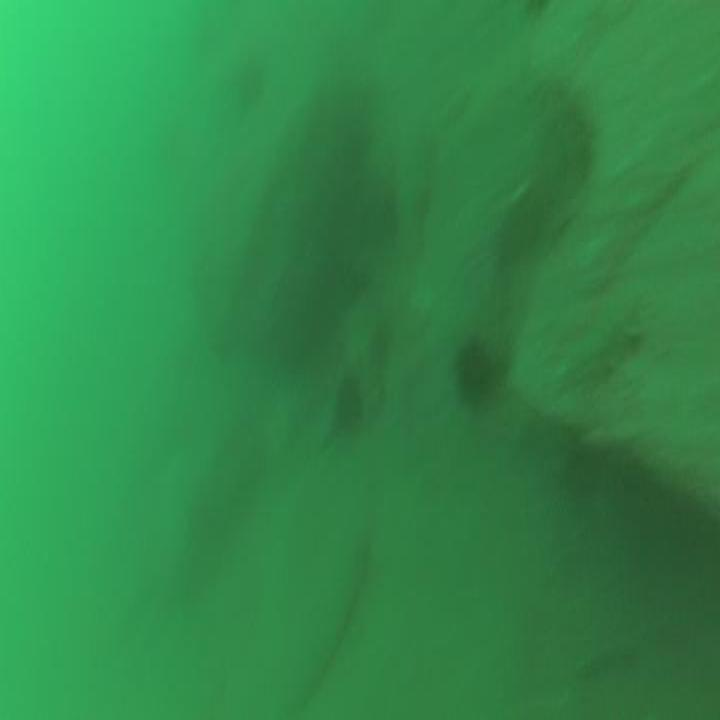echinus: (449, 318, 501, 411)
holothurian: (559, 286, 645, 395)
